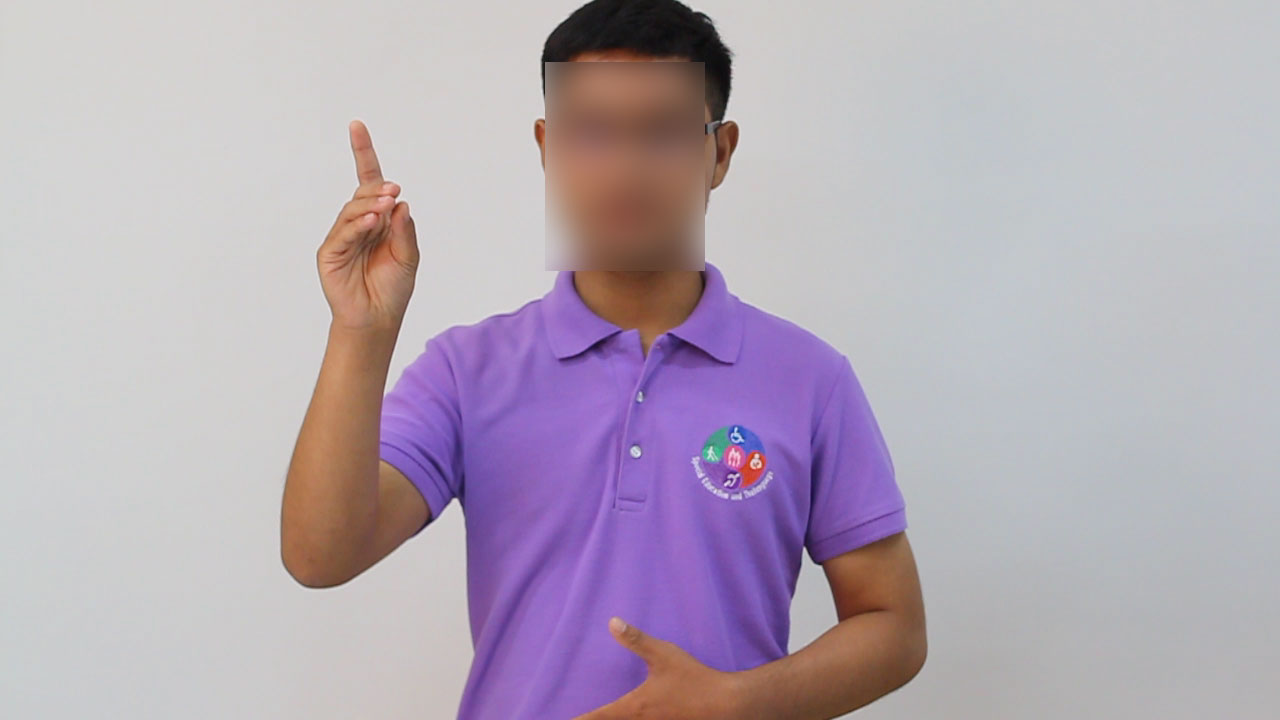dor: (307, 112, 432, 351)
